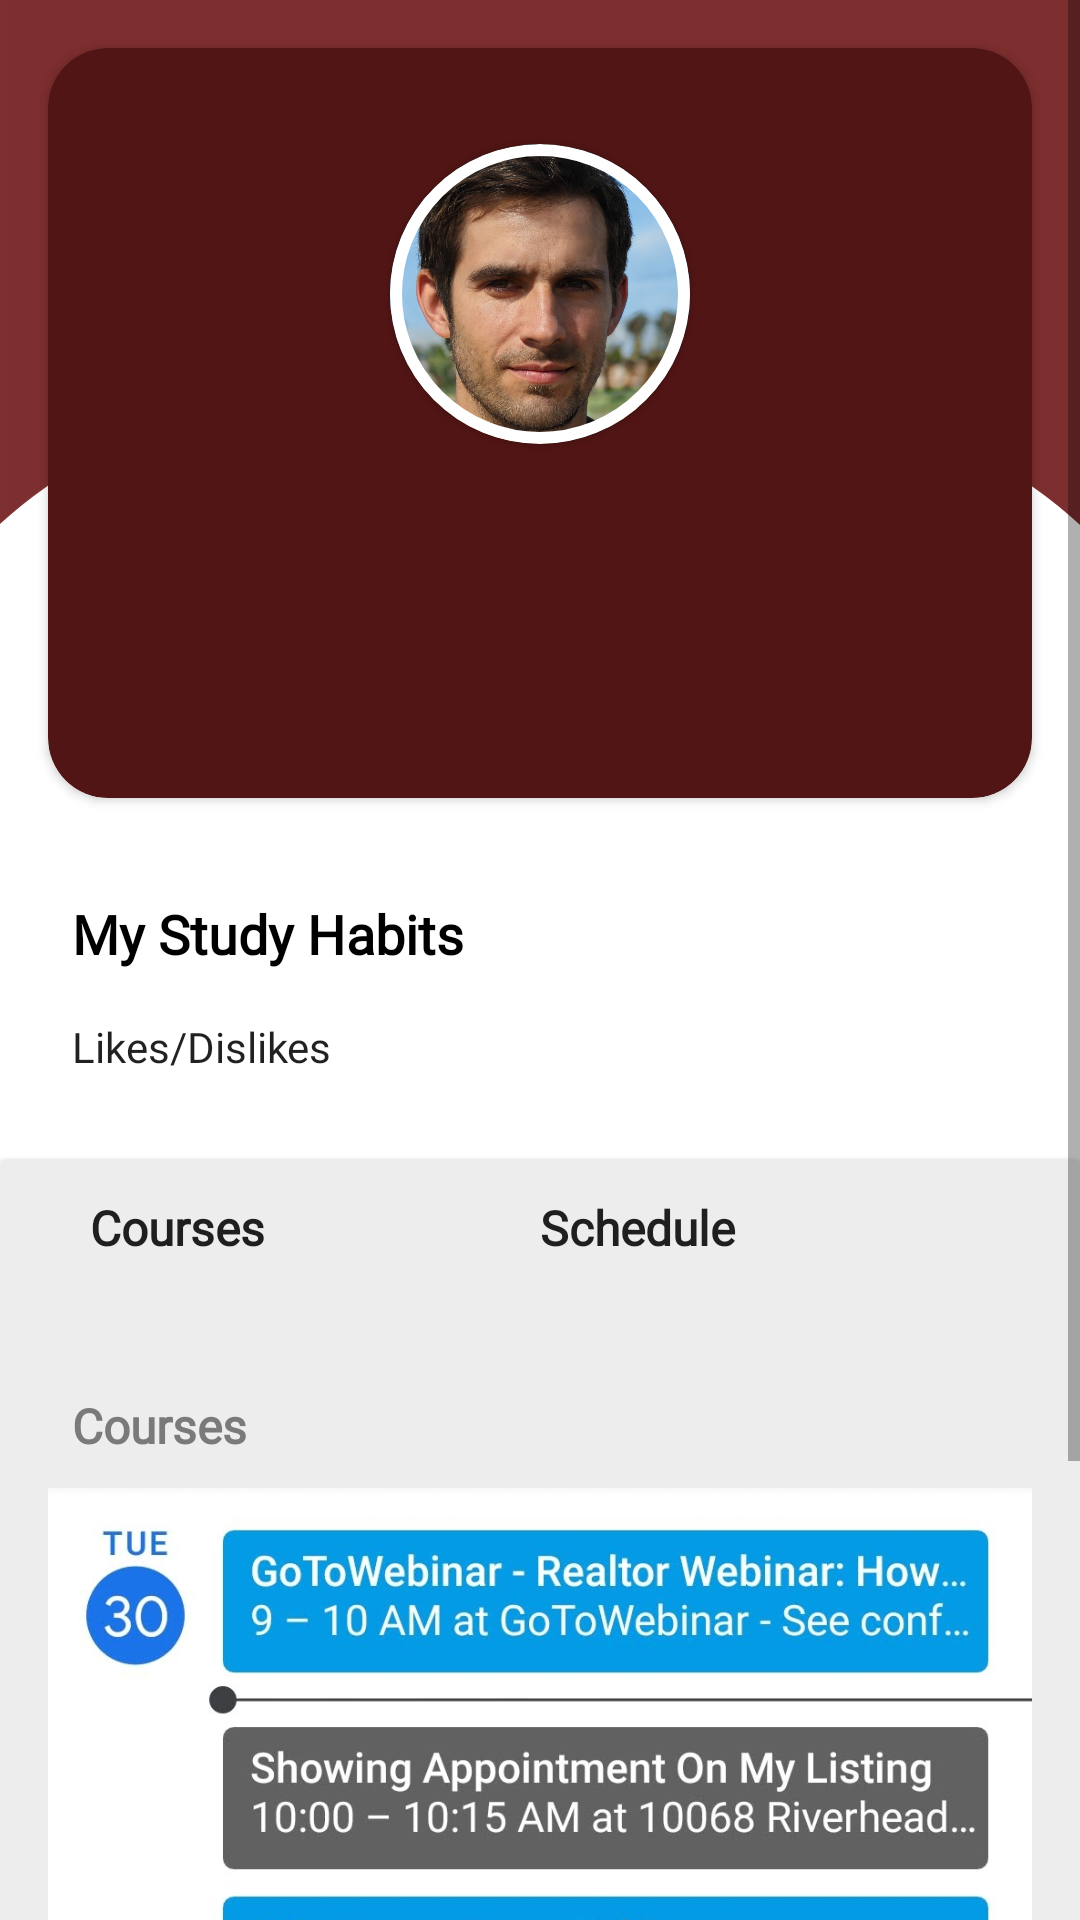

Screen size 1080 × 1920. Icon name, then its box in pixels as BBox(x1, y1, x2, y2):
User's Profile Picture: BBox(390, 144, 690, 444)
